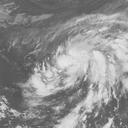cyclone: (57, 31, 127, 76)
